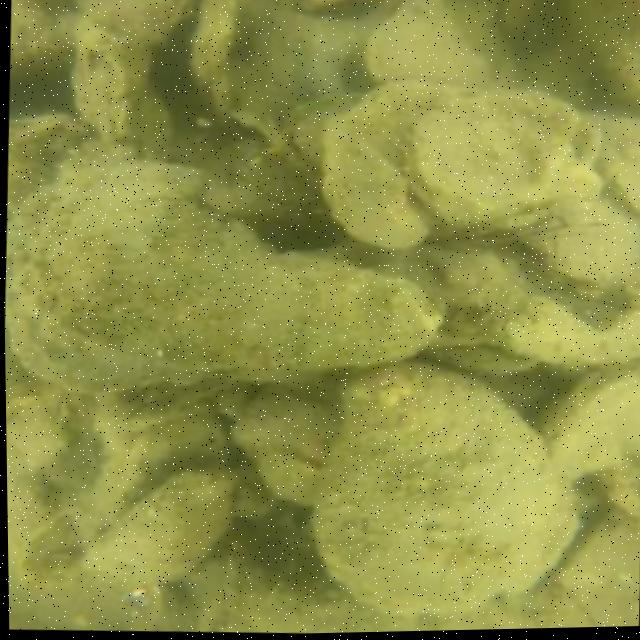Oyster-Closed: (407, 96, 604, 230)
Oyster-Indeterminate: (6, 152, 433, 392), (318, 363, 566, 612), (322, 83, 481, 244), (225, 581, 637, 631), (86, 468, 234, 585), (361, 0, 506, 90), (547, 364, 639, 477), (229, 381, 339, 461), (87, 0, 186, 42)
